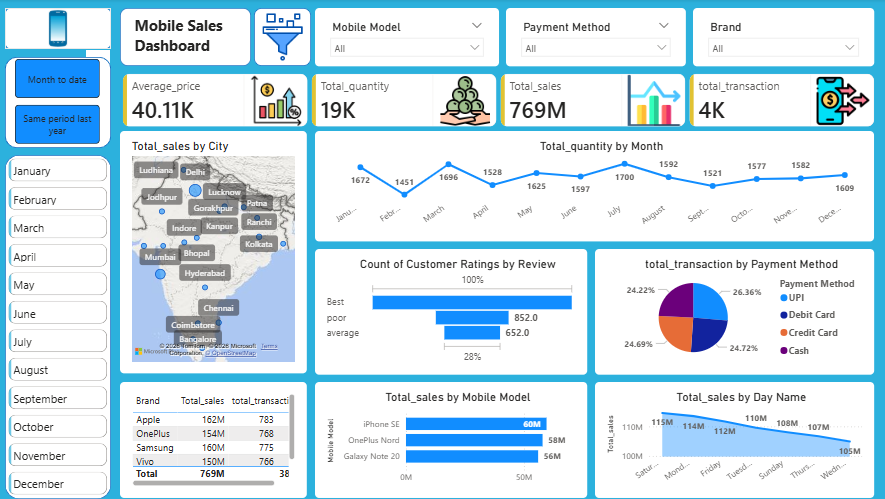

This screenshot's page, from the dashboard's own definition file:
{"tool":"powerbi","page":{"name":"Dashboard","canvas":[1280,720],"ordinal":0},"visuals":[{"type":"shape","box":[10.1,13,152.6,59],"z":0},{"type":"image","box":[63.4,13,46.1,59],"z":1000},{"type":"shape","box":[10.1,83.5,152.6,131],"z":2000},{"type":"shape","box":[10.1,224.6,152.6,495.4],"z":3000},{"type":"advancedSlicerVisual","fields":{"Values":["customed calender.Date.Variation.Date Hierarchy.Month"]},"box":[10.1,224.6,152.6,495.4],"z":4000},{"type":"cardVisual","fields":{"Data":["mobile sale data.Average_price","mobile sale data.Total_quantity","mobile sale data.Total_sales","mobile sale data.total_transaction"]},"box":[162.7,90.7,1117.4,110.9],"z":5000},{"type":"slicer","fields":{"Values":["mobile sale data.Mobile Model"]},"box":[456.5,13,265,83.5],"z":6000},{"type":"slicer","fields":{"Values":["mobile sale data.Payment Method"]},"box":[731.5,13,259.2,83.5],"z":7000},{"type":"slicer","fields":{"Values":["mobile sale data.Brand"]},"box":[1000.8,13,260.6,83.5],"z":8000},{"type":"shape","box":[369,13,82.1,83.5],"z":9000},{"type":"image","box":[374.4,18.7,70.6,72],"z":10000},{"type":"shape","box":[175.7,13,188.6,83.5],"z":11000},{"type":"textbox","box":[191.5,18.7,158.4,72],"z":12000},{"type":"map","fields":{"Category":["mobile sale data.City"],"Size":["mobile sale data.Total_sales"]},"box":[176.2,190.8,269.4,349.5],"z":13000},{"type":"lineChart","fields":{"Y":["mobile sale data.Total_quantity"],"Category":["customed calender.Date.Variation.Date Hierarchy.Month"]},"box":[455.8,190.8,805.3,158.7],"z":14000},{"type":"funnel","fields":{"Y":["CountNonNull(mobile sale data.Customer Ratings)"],"Category":["mobile sale data.Review"]},"box":[455.8,359.7,391.7,180.6],"z":15000},{"type":"pieChart","fields":{"Category":["mobile sale data.Payment Method"],"Y":["mobile sale data.total_transaction"]},"box":[859.2,359.7,401.9,180.6],"z":16000},{"type":"barChart","fields":{"Category":["mobile sale data.Mobile Model"],"Y":["mobile sale data.Total_sales"]},"box":[455.8,551.9,391.7,167.5],"z":17000},{"type":"areaChart","fields":{"Y":["mobile sale data.Total_sales"],"Category":["customed calender.Day Name"]},"box":[859.2,551.9,401.9,167.5],"z":18000},{"type":"tableEx","fields":{"Values":["mobile sale data.Brand","mobile sale data.Total_sales","mobile sale data.total_transaction"]},"box":[176.2,551.9,269.4,167.5],"z":19000},{"type":"pageNavigator","box":[24.5,86.4,122.4,123.8],"z":19001}]}

Visuals, with their boxes in screenshot pixels (x1, y1, x2, y2), scaled from the page's 1280x720 canvas onto the 885x499 screenshot:
shape: <region>7, 9, 112, 50</region>
image: <region>44, 9, 76, 50</region>
shape: <region>7, 58, 112, 149</region>
shape: <region>7, 156, 112, 498</region>
advancedSlicerVisual - customed calender.Date.Variation.Date Hierarchy.Month: <region>7, 156, 112, 498</region>
cardVisual - mobile sale data.Average_price x mobile sale data.Total_quantity: <region>112, 63, 884, 140</region>
slicer - mobile sale data.Mobile Model: <region>316, 9, 499, 67</region>
slicer - mobile sale data.Payment Method: <region>506, 9, 685, 67</region>
slicer - mobile sale data.Brand: <region>692, 9, 872, 67</region>
shape: <region>255, 9, 312, 67</region>
image: <region>259, 13, 308, 63</region>
shape: <region>121, 9, 252, 67</region>
textbox: <region>132, 13, 242, 63</region>
map - mobile sale data.City x mobile sale data.Total_sales: <region>122, 132, 308, 374</region>
lineChart - mobile sale data.Total_quantity x customed calender.Date.Variation.Date Hierarchy.Month: <region>315, 132, 872, 242</region>
funnel - CountNonNull(mobile sale data.Customer Ratings) x mobile sale data.Review: <region>315, 249, 586, 374</region>
pieChart - mobile sale data.Payment Method x mobile sale data.total_transaction: <region>594, 249, 872, 374</region>
barChart - mobile sale data.Mobile Model x mobile sale data.Total_sales: <region>315, 382, 586, 498</region>
areaChart - mobile sale data.Total_sales x customed calender.Day Name: <region>594, 382, 872, 498</region>
tableEx - mobile sale data.Brand x mobile sale data.Total_sales: <region>122, 382, 308, 498</region>
pageNavigator: <region>17, 60, 102, 146</region>
